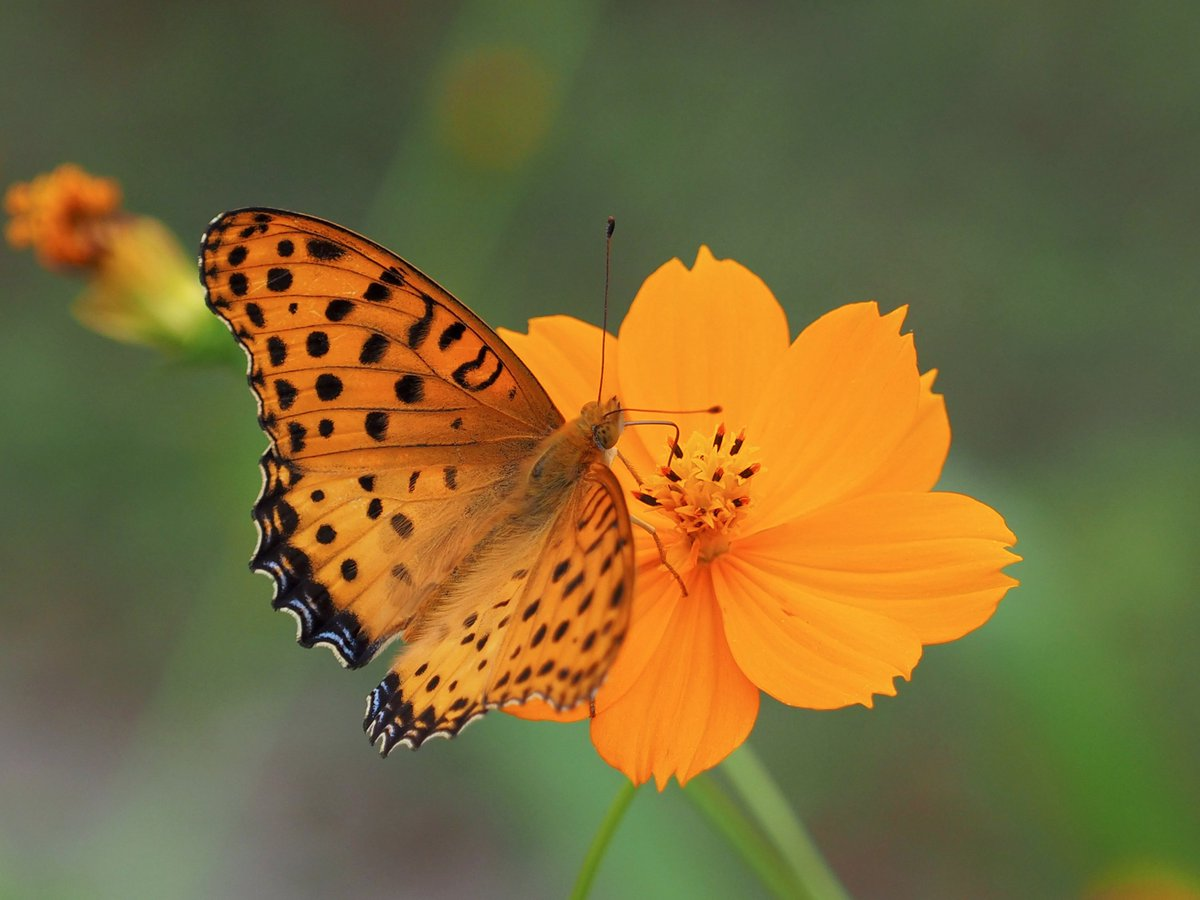Argyreus hyperbius: (186, 184, 729, 758)
butterfly: (188, 186, 731, 760)
